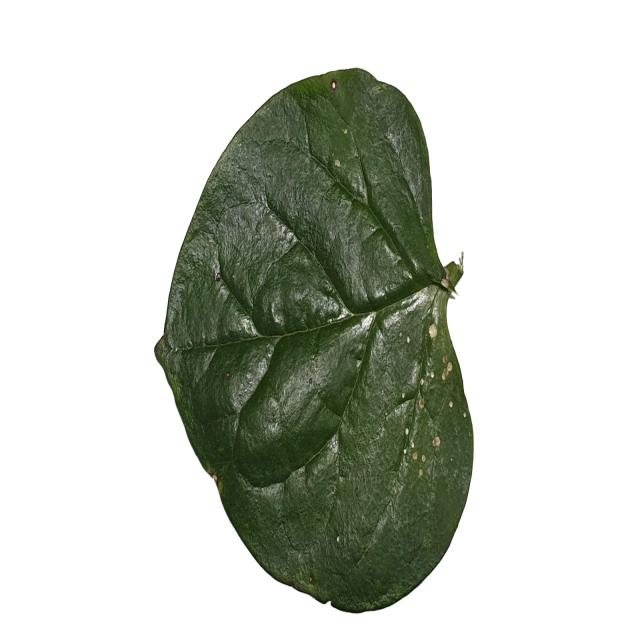Medicinal-Basale: (152, 65, 477, 612)
